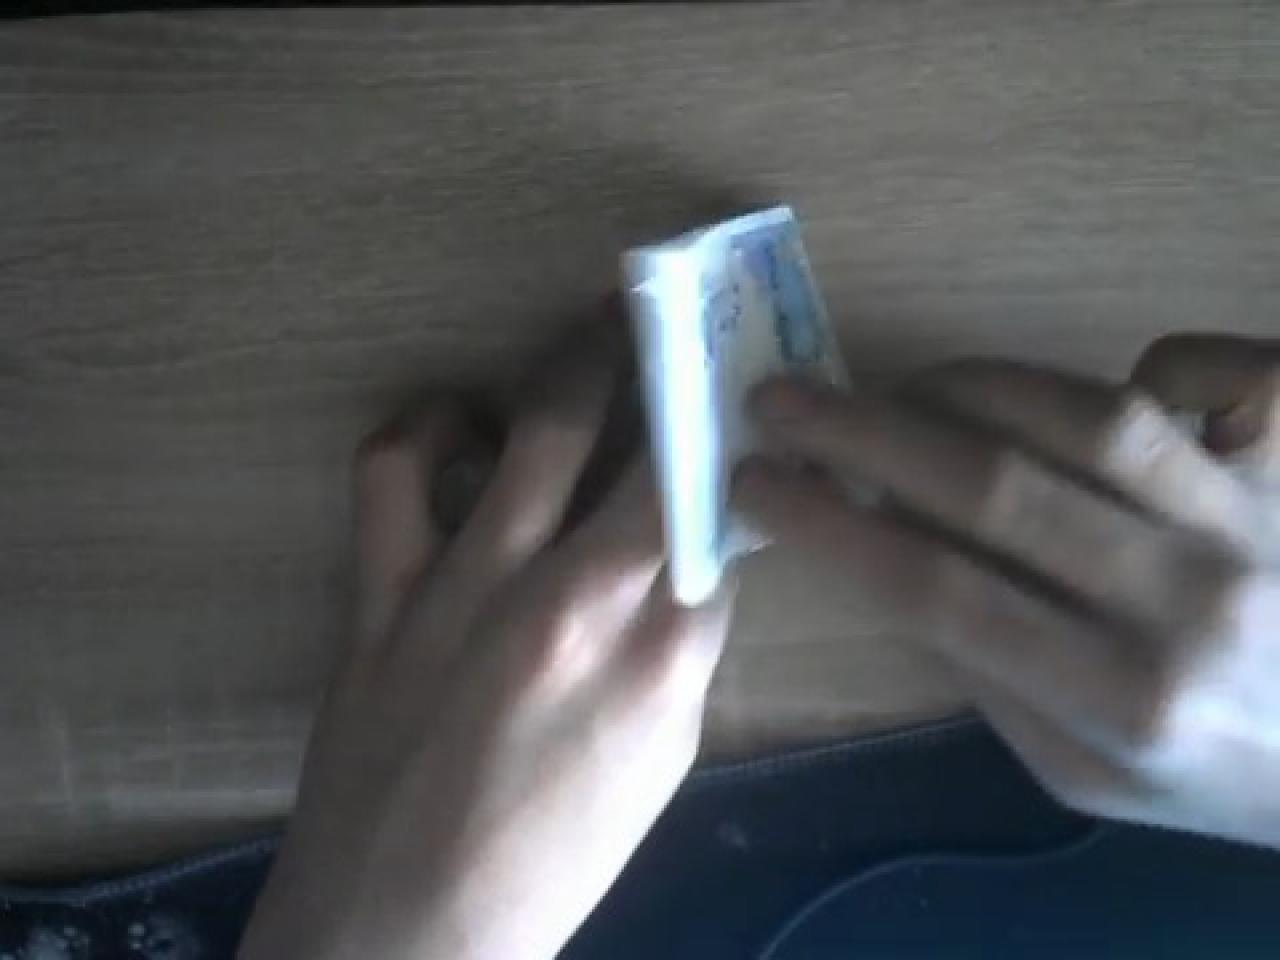20leva: (613, 201, 856, 611)
